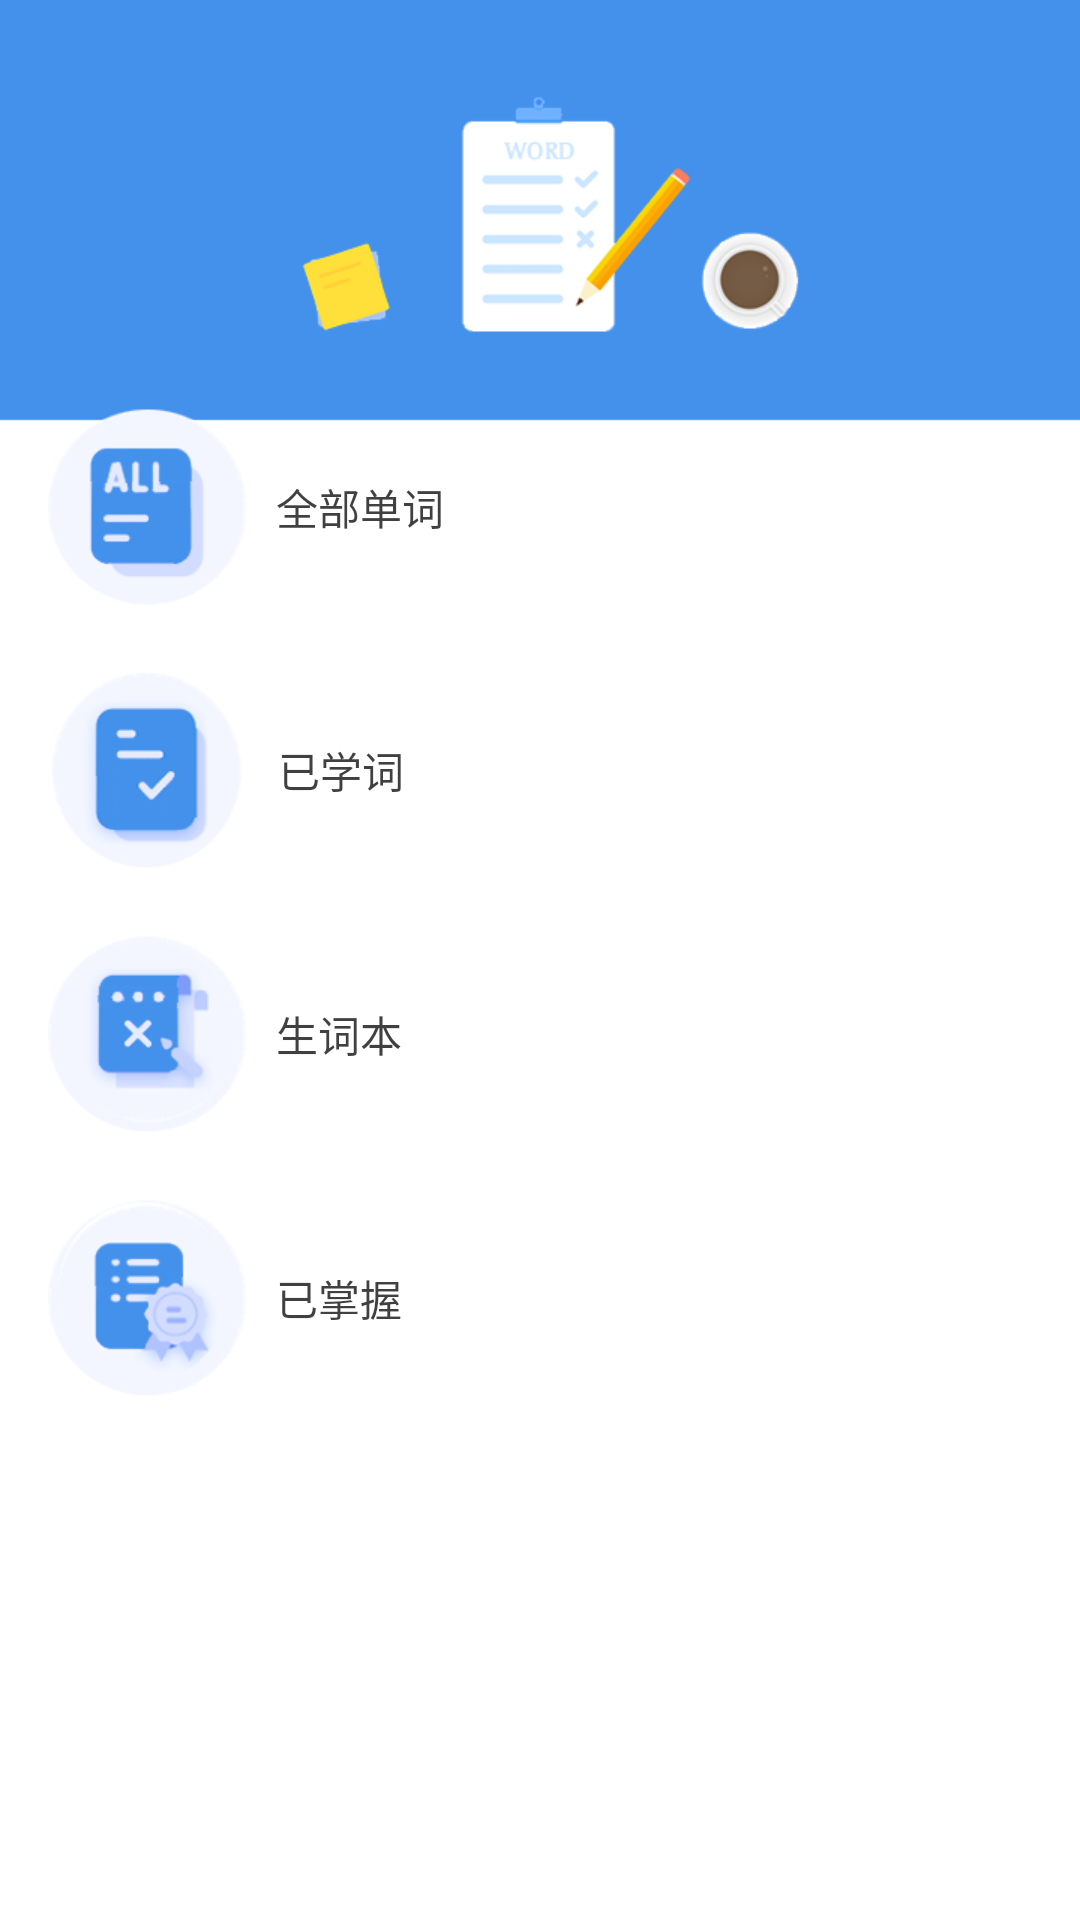

Named icons in this screenshot (1080 x 1920) and their centers, point (x, y):
dic handled: point (152, 1303)
dic studied: point (148, 774)
dic unfamiliar: point (151, 1030)
